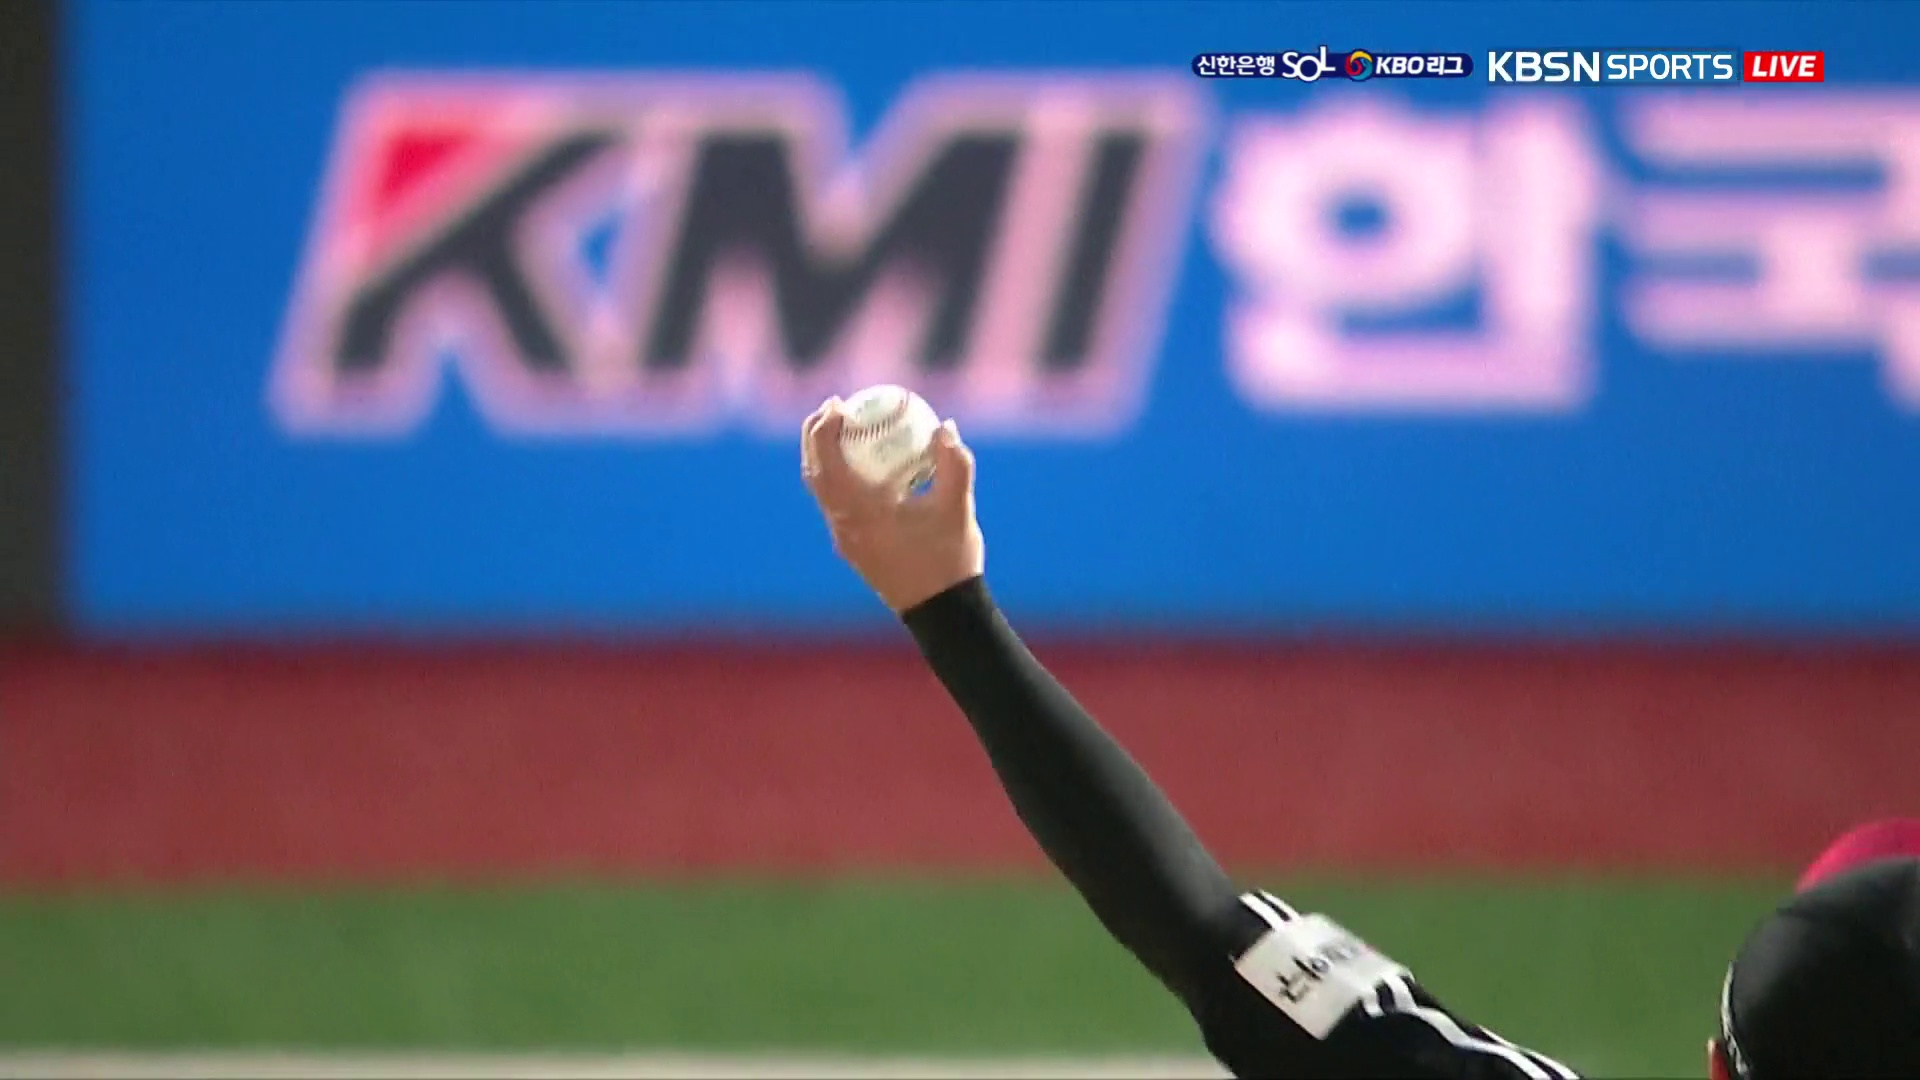zoomin_hand: (790, 380, 1283, 1018)
